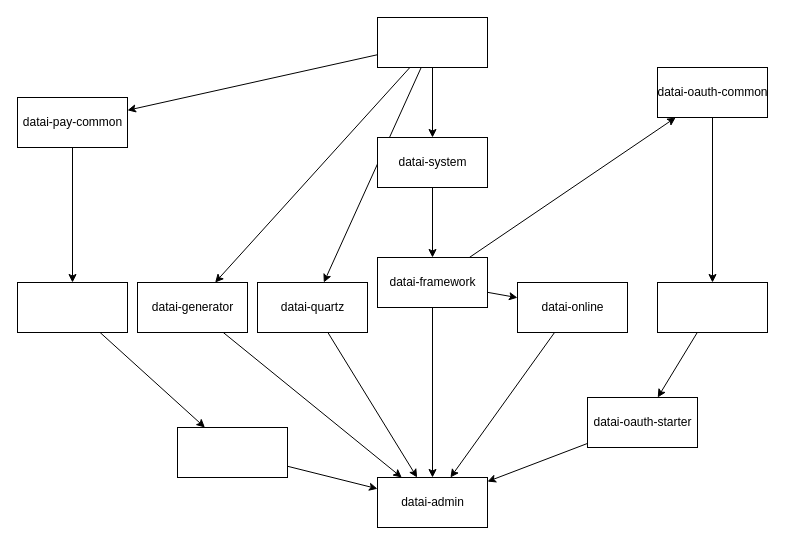
This 785x545 diagram has some shape labels left out. Each missing label, with the centre of its shape:
"datai-common" goes at point (432, 42).
"datai-oauth-xx" goes at point (712, 307).
"datai-pay-stater" goes at point (232, 452).
"datai-pay-xx" goes at point (72, 307).
